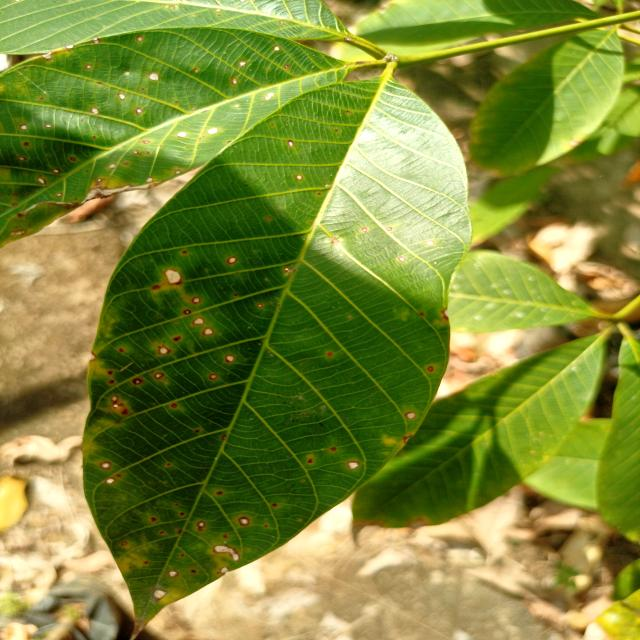Colletotrichum: (164, 268, 183, 285), (151, 589, 168, 600), (238, 516, 251, 526), (202, 326, 214, 336), (100, 461, 112, 470), (224, 354, 235, 363), (226, 256, 238, 264), (193, 317, 205, 325), (158, 346, 170, 354), (104, 477, 116, 485), (167, 570, 179, 578), (191, 296, 202, 304), (208, 373, 219, 381), (132, 378, 144, 385), (154, 372, 165, 379), (110, 395, 119, 403), (196, 521, 206, 528), (183, 309, 192, 315), (174, 336, 182, 342), (256, 303, 264, 308), (170, 403, 178, 408), (121, 541, 128, 546)
